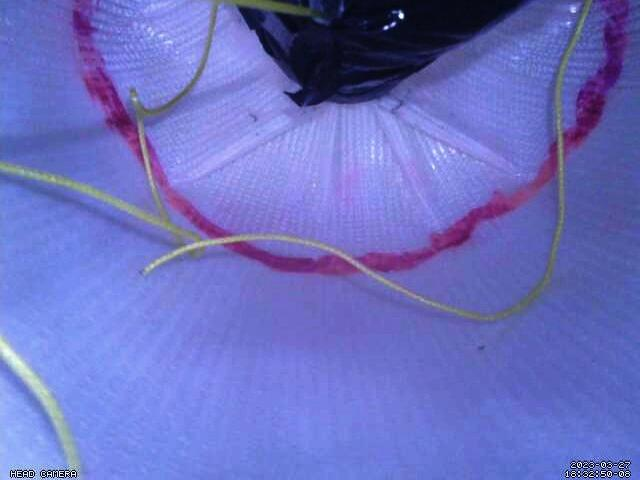head: (70, 0, 632, 275)
